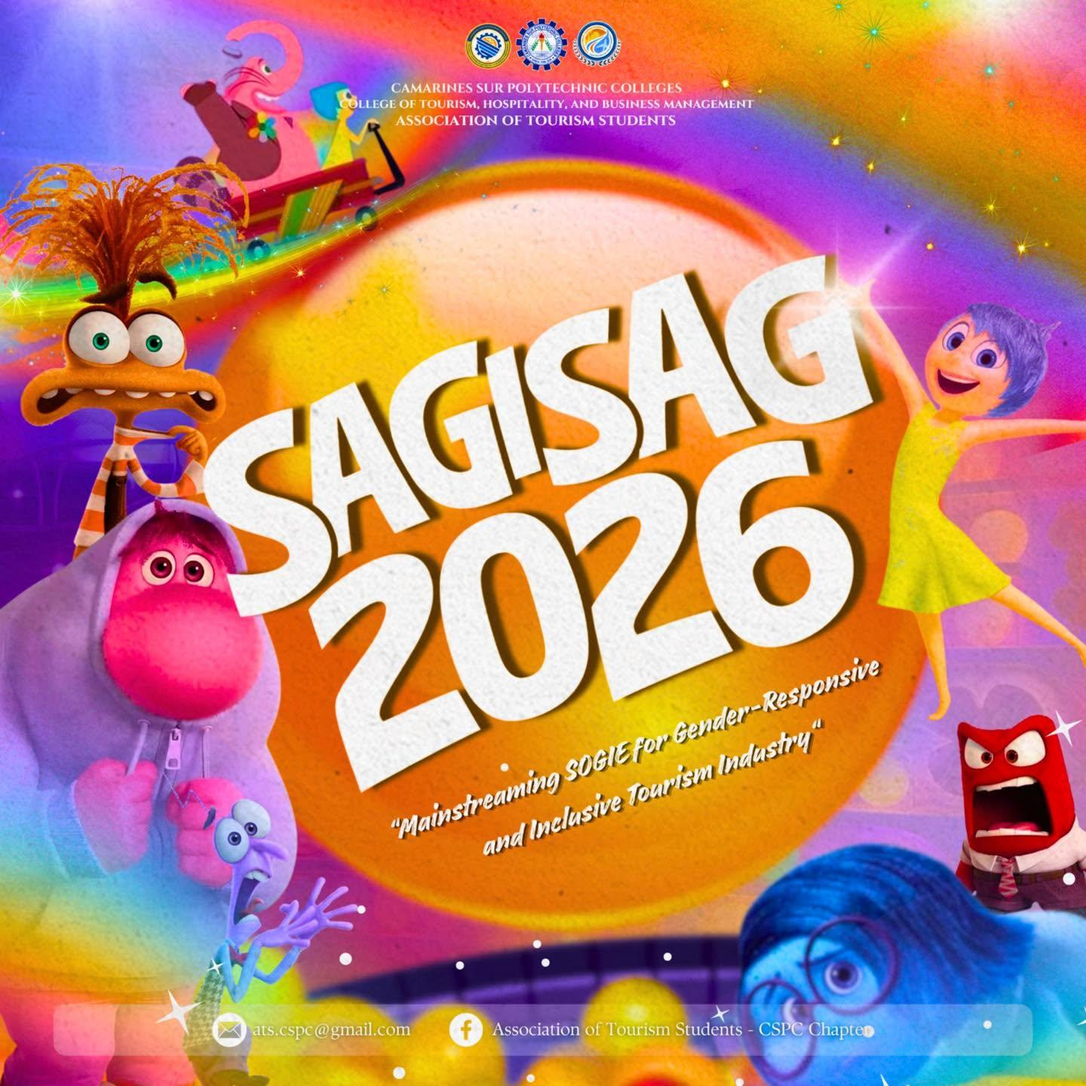embellishment: (447, 1011, 488, 1047), (210, 1014, 250, 1047)
logo: (571, 3, 626, 67), (514, 13, 572, 72), (463, 26, 512, 68)
text: (169, 201, 1020, 923), (171, 199, 1021, 920), (337, 76, 763, 131), (489, 1018, 879, 1040), (251, 1016, 418, 1042)
underlay: (0, 143, 1085, 1085)
